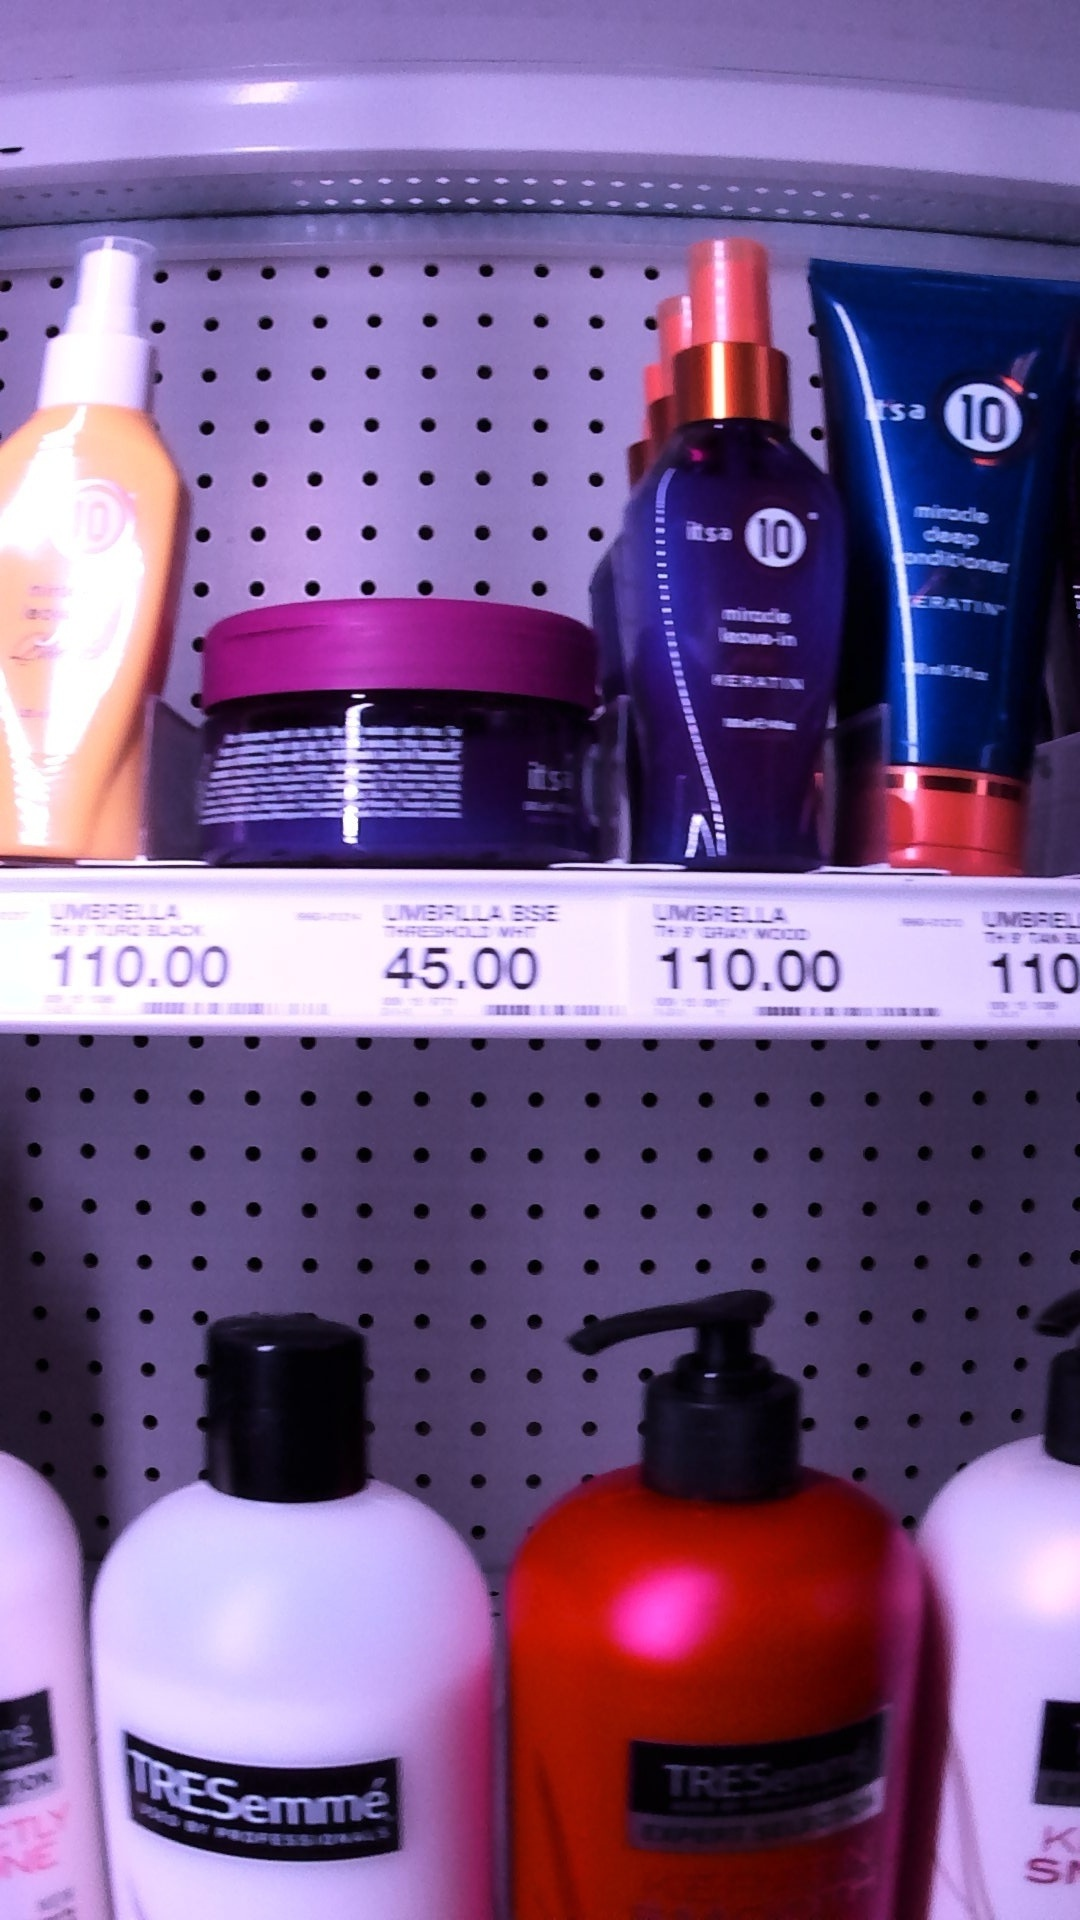ptag: (644, 880, 938, 1031), (38, 893, 315, 1022), (380, 893, 626, 1035)
